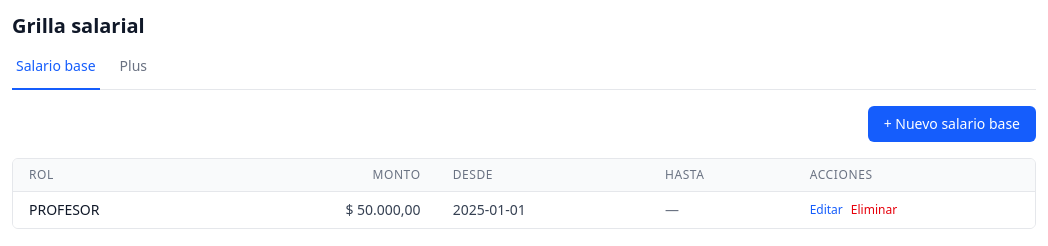
Scenario: GrillaSalarialPage › 12.3c: delete shows inline confirmation before deleting
Check: the text "PROFESOR" is shown, box [13,192,220,228]
// Click "Eliminar"
Step 1. Click the button "Eliminar" → (874,210), box [851,202,897,218]
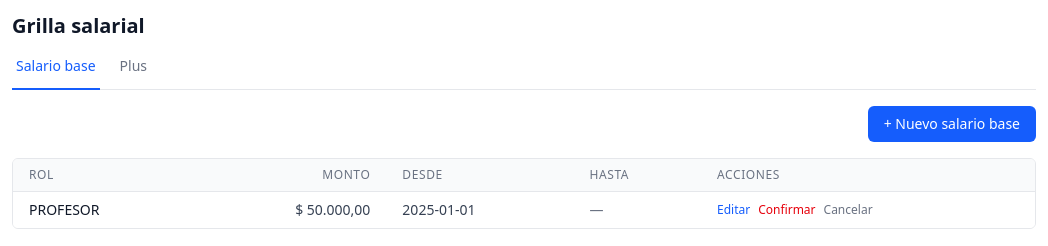
Check: the button "Confirmar" is shown, box [758,202,816,218]
Check: the button "Cancelar" is shown, box [824,202,872,218]
